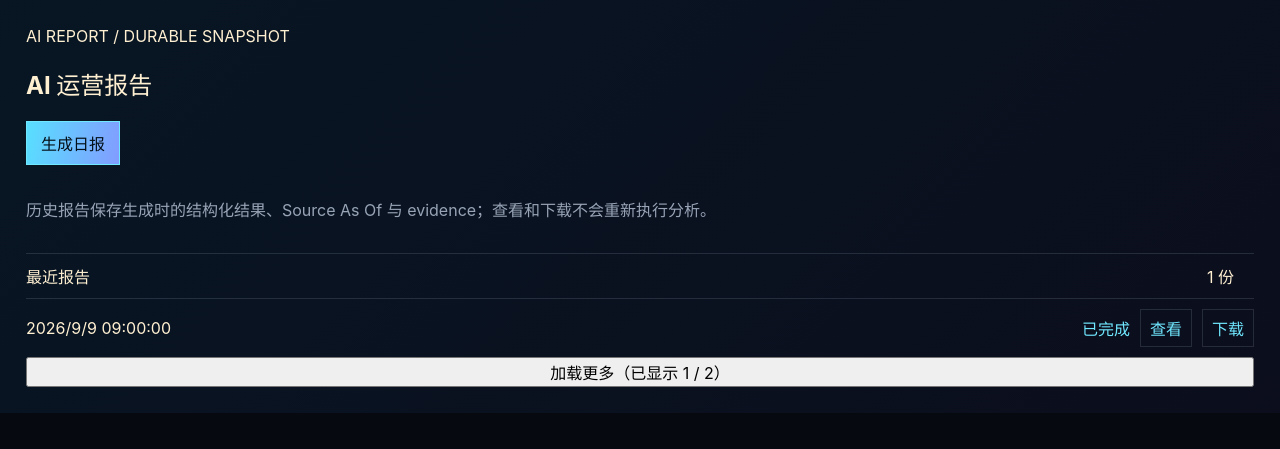
Scenario: OperationsDailyReport › loads every history page instead of hiding reports beyond the first page
Click the button "加载更多（已显示 1 / 2）" at (640, 372), box [26,357,1254,387]
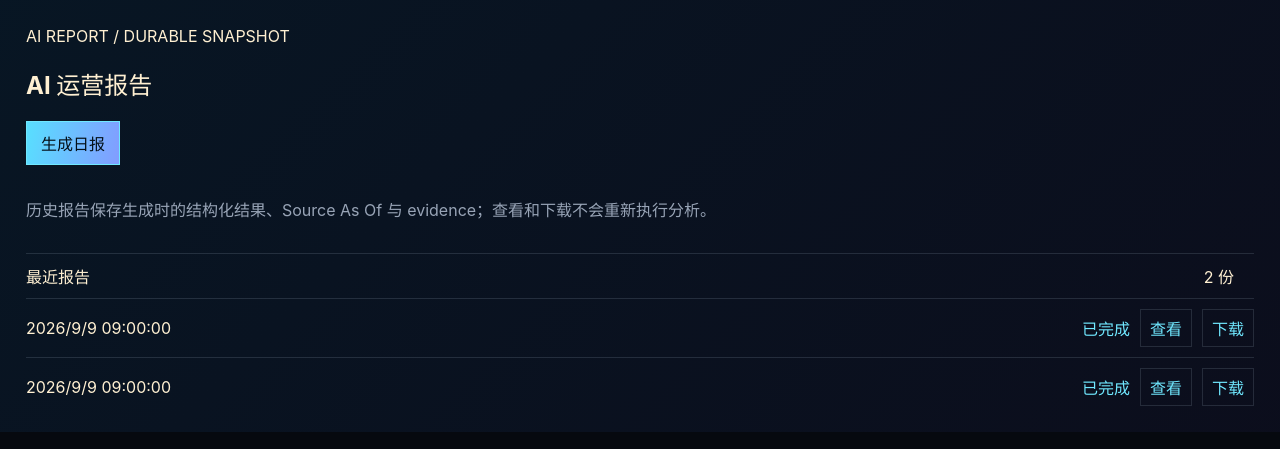
Result: the element with test id "report-history" shows "2 份" at [1204,267,1234,287]
